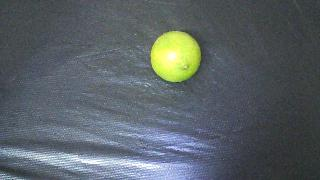LOCAL: (151, 31, 201, 82)
